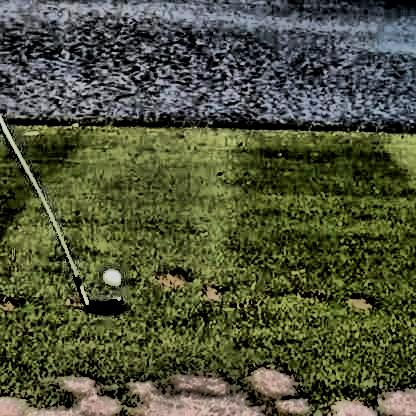golfball: (98, 266, 119, 287)
